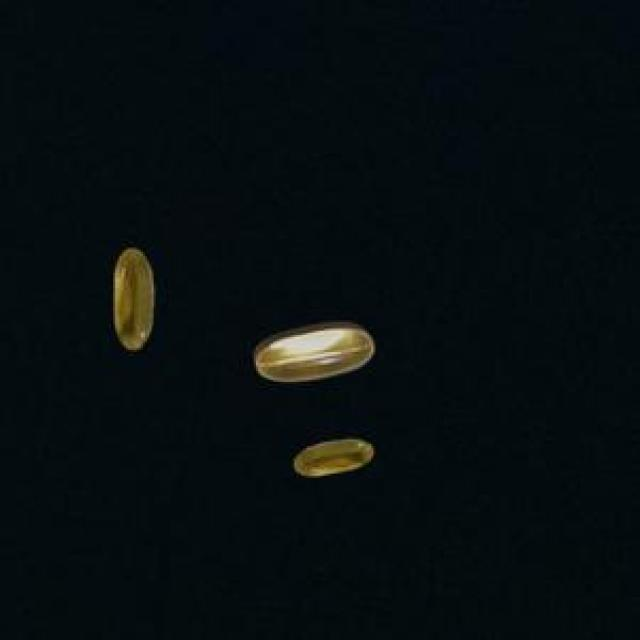Fish_Oil: (244, 311, 382, 395), (96, 234, 169, 361), (284, 429, 399, 487)
